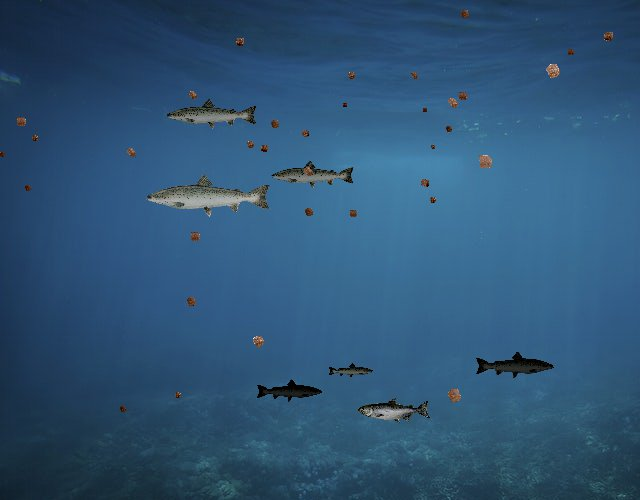Fish: (144, 172, 273, 218), (165, 97, 259, 131), (270, 159, 356, 190), (475, 351, 556, 380), (359, 397, 432, 423), (256, 378, 324, 402), (328, 362, 375, 379)
Pellet: (246, 329, 271, 354), (455, 5, 474, 24), (343, 67, 360, 84), (170, 388, 185, 403), (116, 402, 130, 416), (426, 193, 440, 207), (28, 131, 42, 145)
